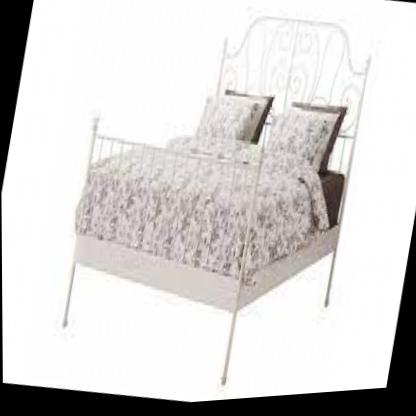Bed: (35, 0, 378, 400)
